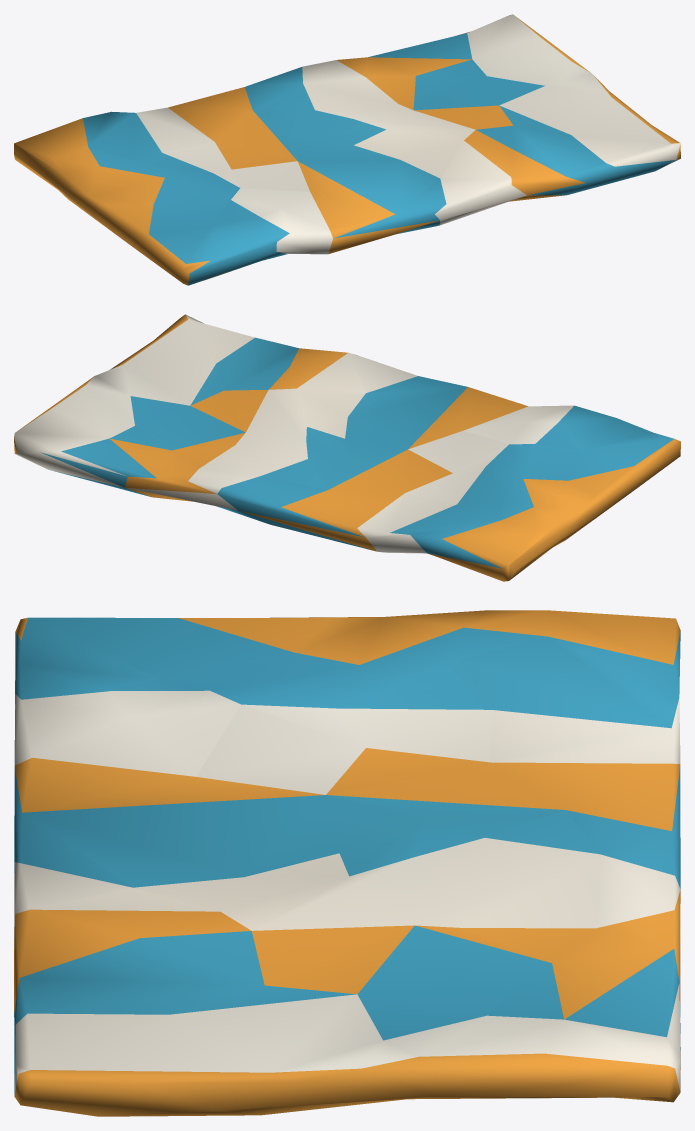
File: shore_towel_lod2.glb
3 views of the same model, one above another, from view 1: azimuth 30°, elevation 25°; view 2: azimuth 150°, elevation 25°; view 3: azimuth 270°, elevation 25° (orthographic). The views are drawn at different scales.
Parts seen in each view (by area): view 1: shore_towel.001; view 2: shore_towel.001; view 3: shore_towel.001.
Part boxes in pixels (x1,y1,x2,y2): shore_towel.001: [14, 14, 680, 285]; shore_towel.001: [14, 314, 680, 581]; shore_towel.001: [14, 610, 680, 1116].
Size of the model in its own units: 20.06 by 1.34 by 12.03.
